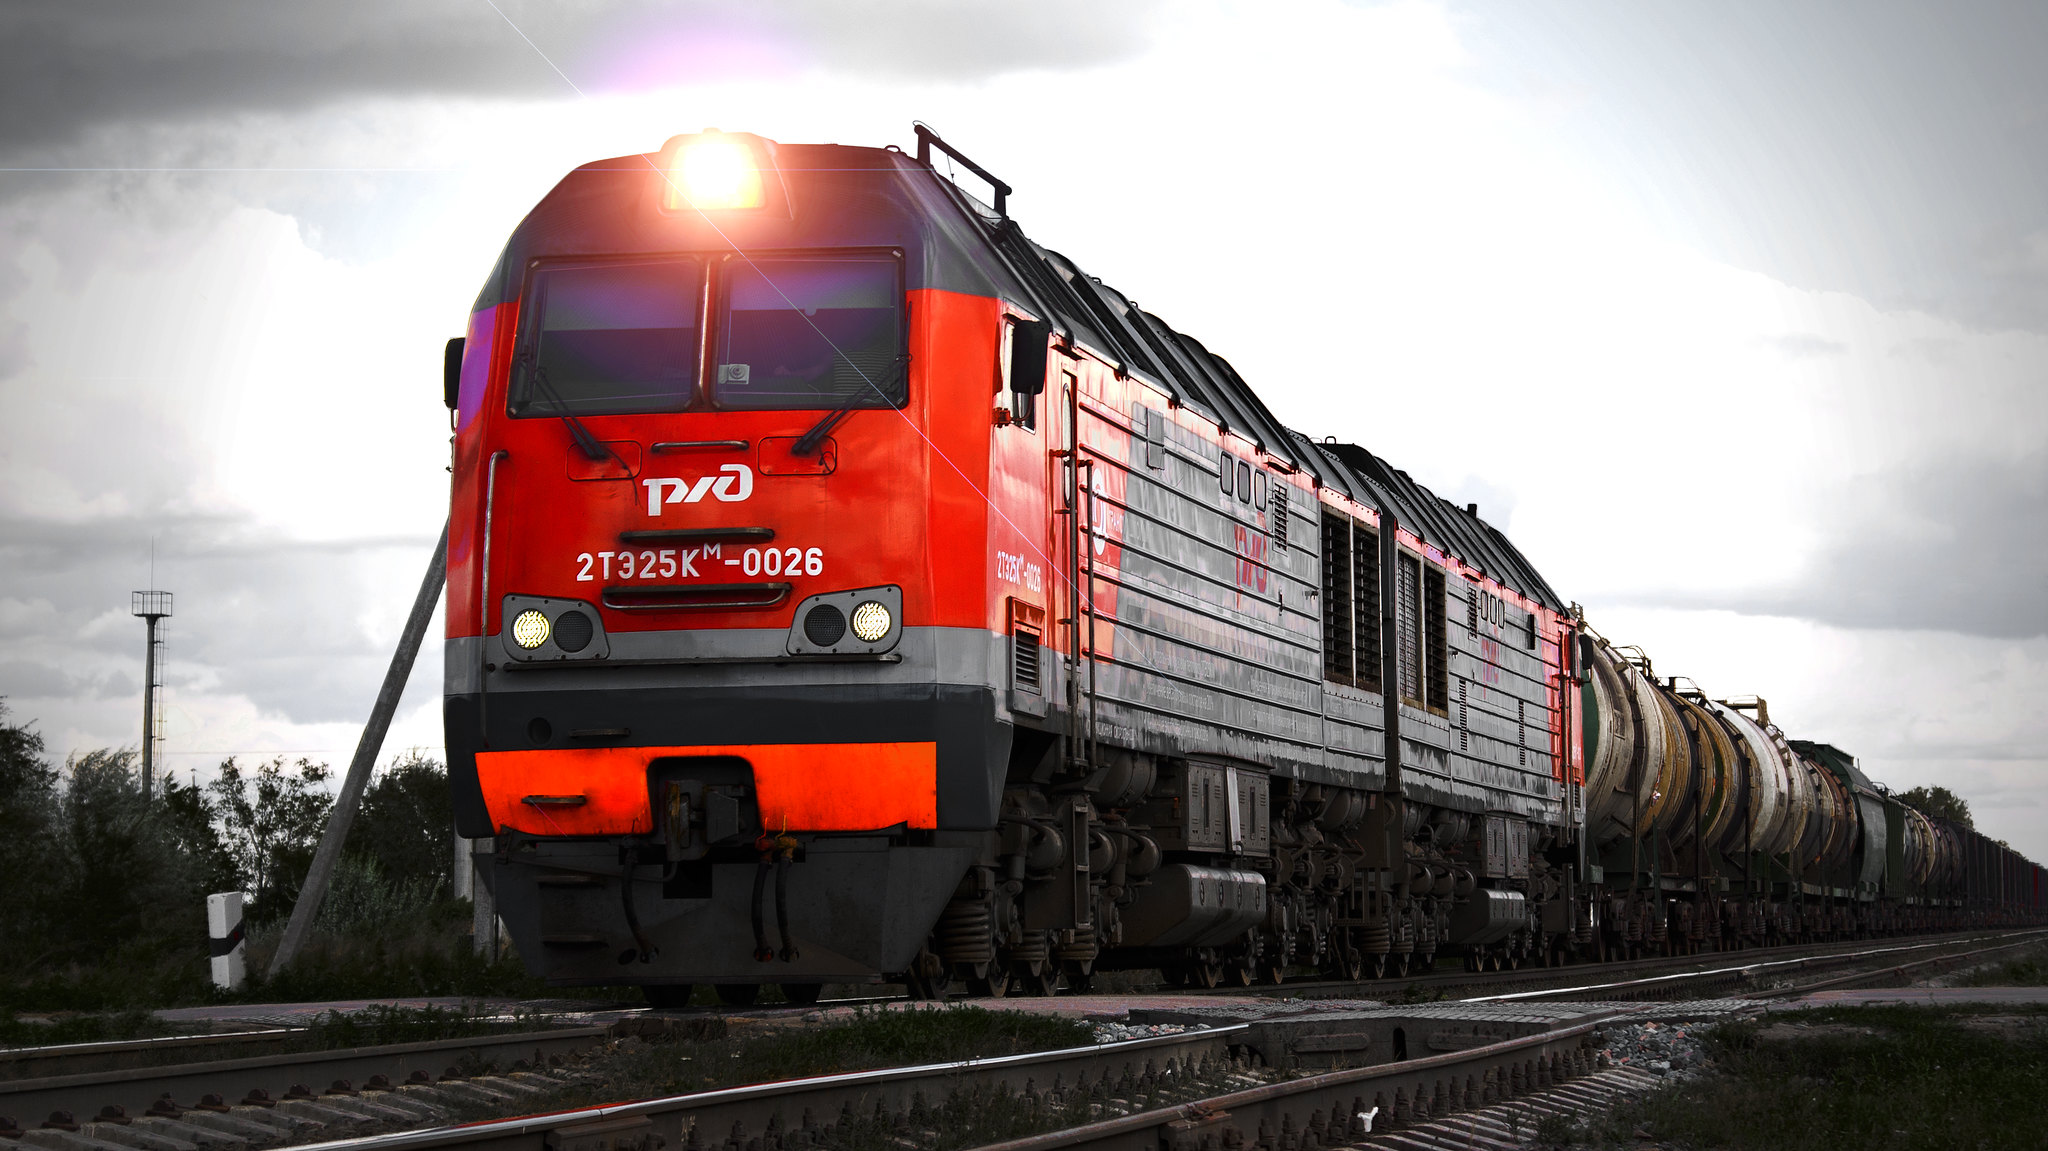train: (444, 106, 2047, 955)
